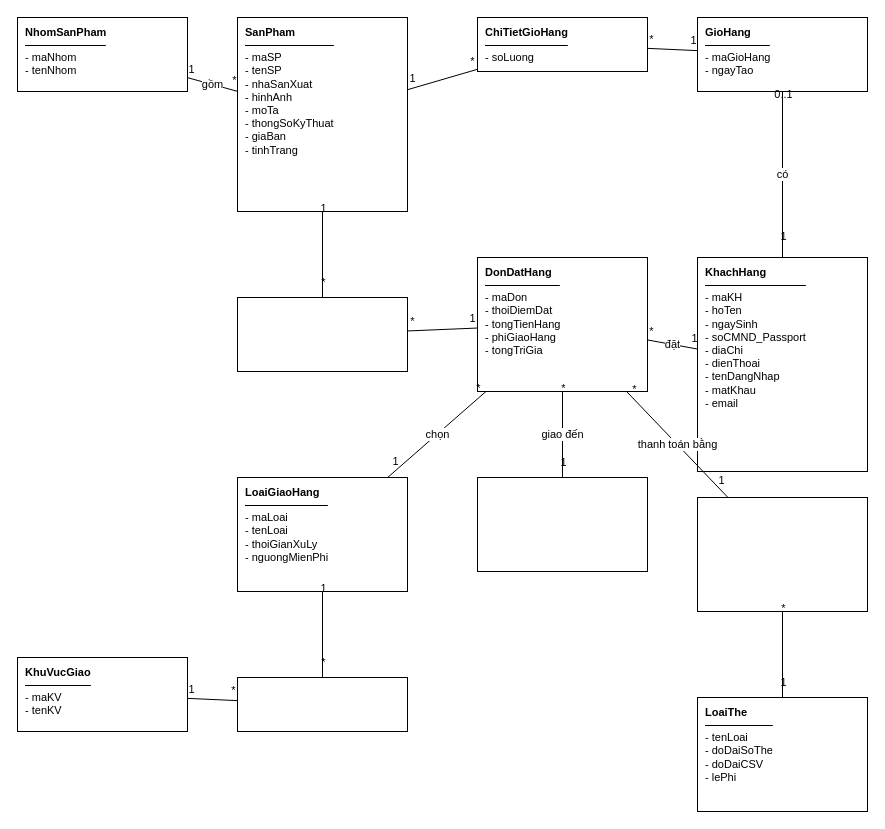
Some shapes in this 885 by 829 pixel diagram are drawn without their labels. The box of each missing label's shape, as (x1, y1, x2, y2) in pixels:
ChiTietDonHang - soLuong - donGia: (236, 296, 408, 372)
NguoiNhan - hoTen - diaChi - dienThoai: (476, 476, 648, 572)
PhiGiaoHang - donGia: (236, 676, 408, 732)
TheTinDung - soThe - ngayHetHan - tenChuThe - CSV: (696, 496, 868, 612)
